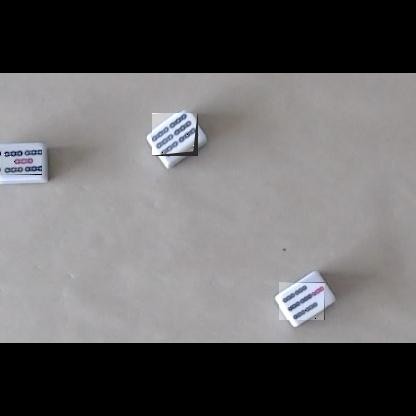5s: (0, 147, 42, 175)
6s: (152, 113, 198, 156)
7s: (279, 282, 325, 320)
